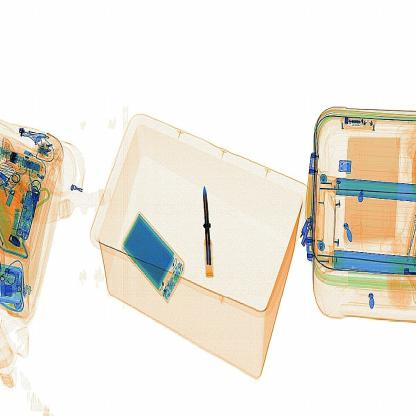gun: (199, 171, 228, 294)
